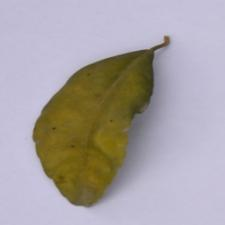Greening: (28, 33, 152, 199)
